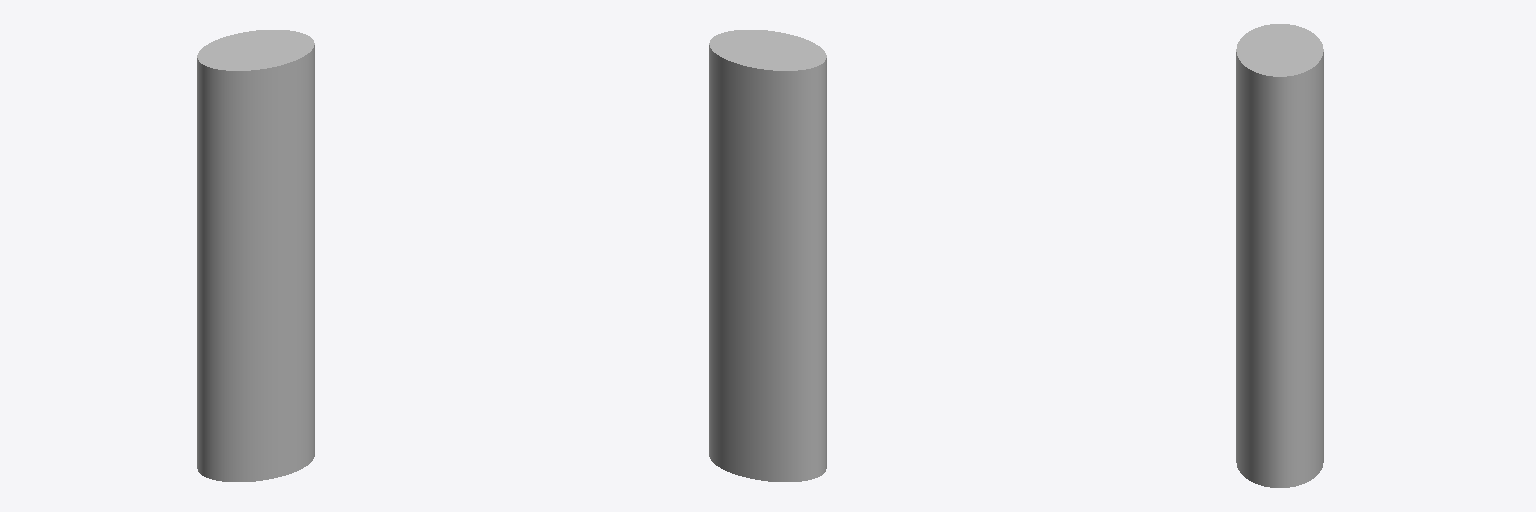
The picture shows the model from 3 angles: view 1: azimuth 30°, elevation 25°; view 2: azimuth 150°, elevation 25°; view 3: azimuth 270°, elevation 25°; orthographic projection.
Parts seen in each view (by area): view 1: 柱体; view 2: 柱体; view 3: 柱体.
Boxes of the visible parts, box(x1,y1,x2,y2) form: 柱体: box(197, 30, 314, 481); 柱体: box(709, 30, 826, 481); 柱体: box(1236, 24, 1323, 487).
Bounding box in the file's own units: 0.2384 × 0.861 × 0.1652.